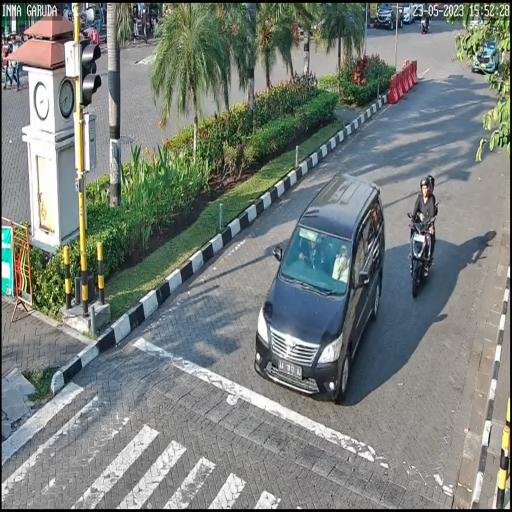mobil: (252, 164, 391, 398)
motor: (405, 197, 438, 293)
